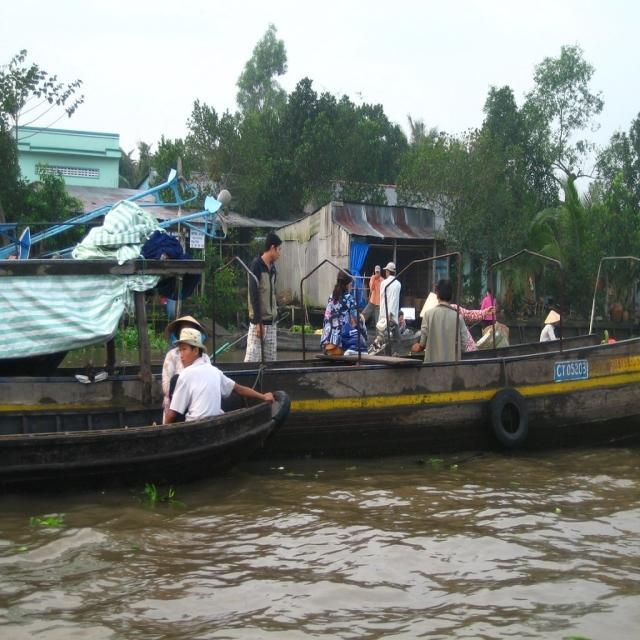boat: (408, 454, 463, 475), (23, 513, 72, 534), (141, 486, 186, 506)
